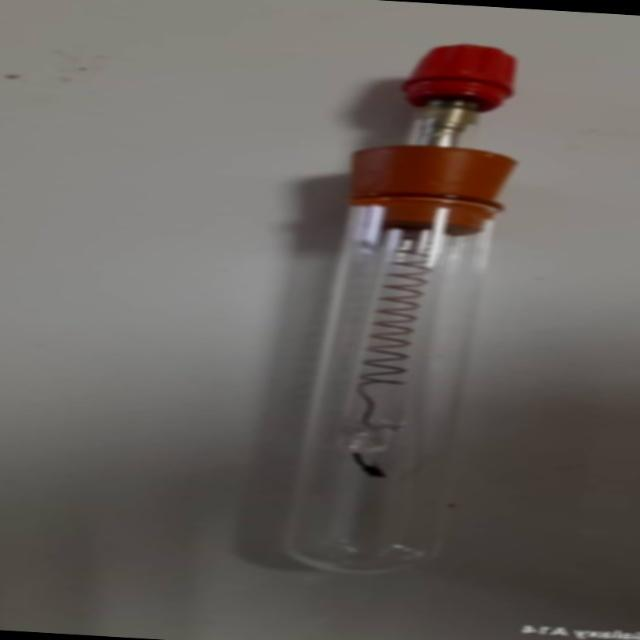Electrode: (215, 35, 613, 595)
